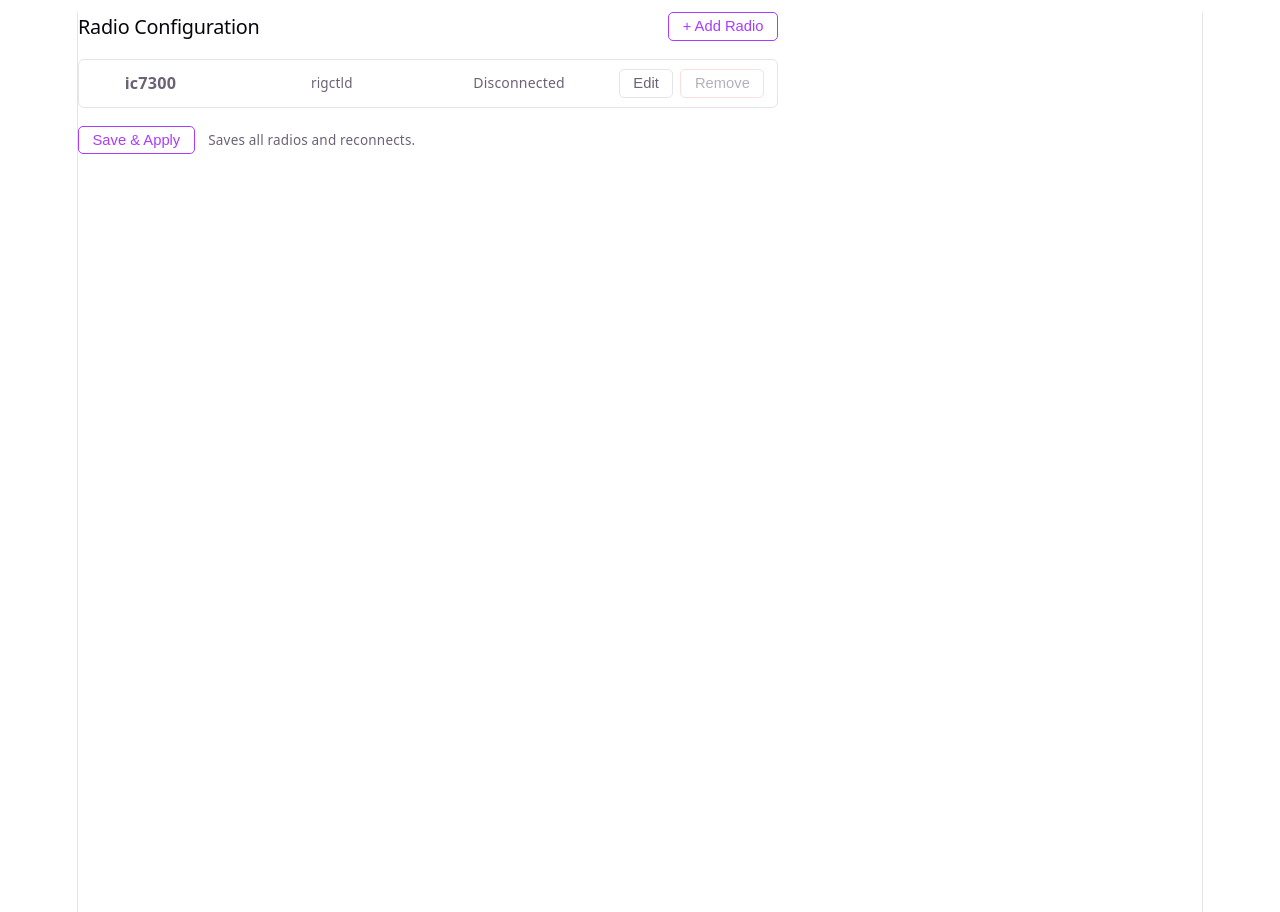
Test: RadioConfig › shows success banner after successful save
Check: the text "ic7300" is shown, box [125, 72, 176, 94]
Click the button "Save & Apply" at coordinates (136, 140), box [78, 126, 195, 154]
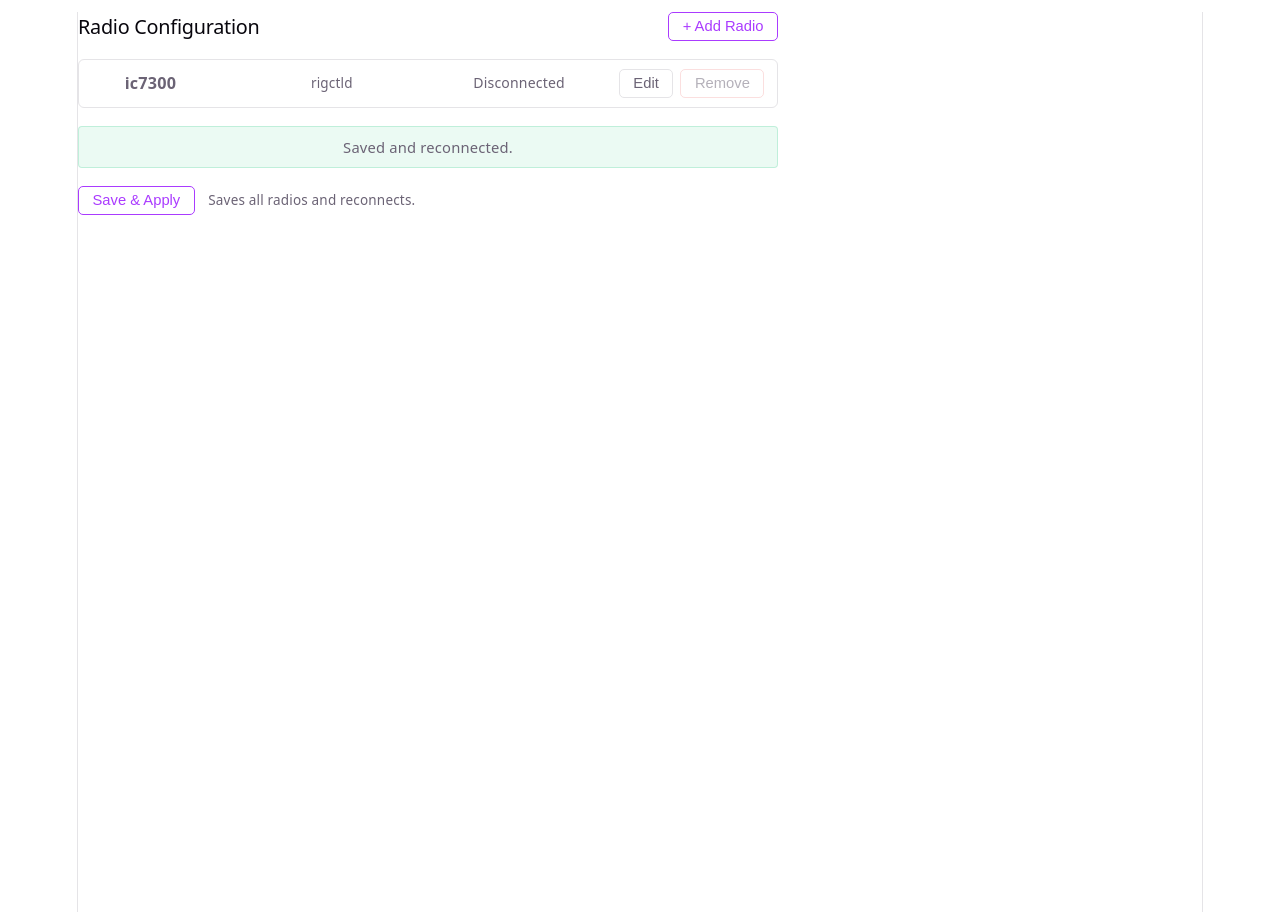
Check: the text "Saved and reconnected." is shown, box [78, 126, 778, 168]
